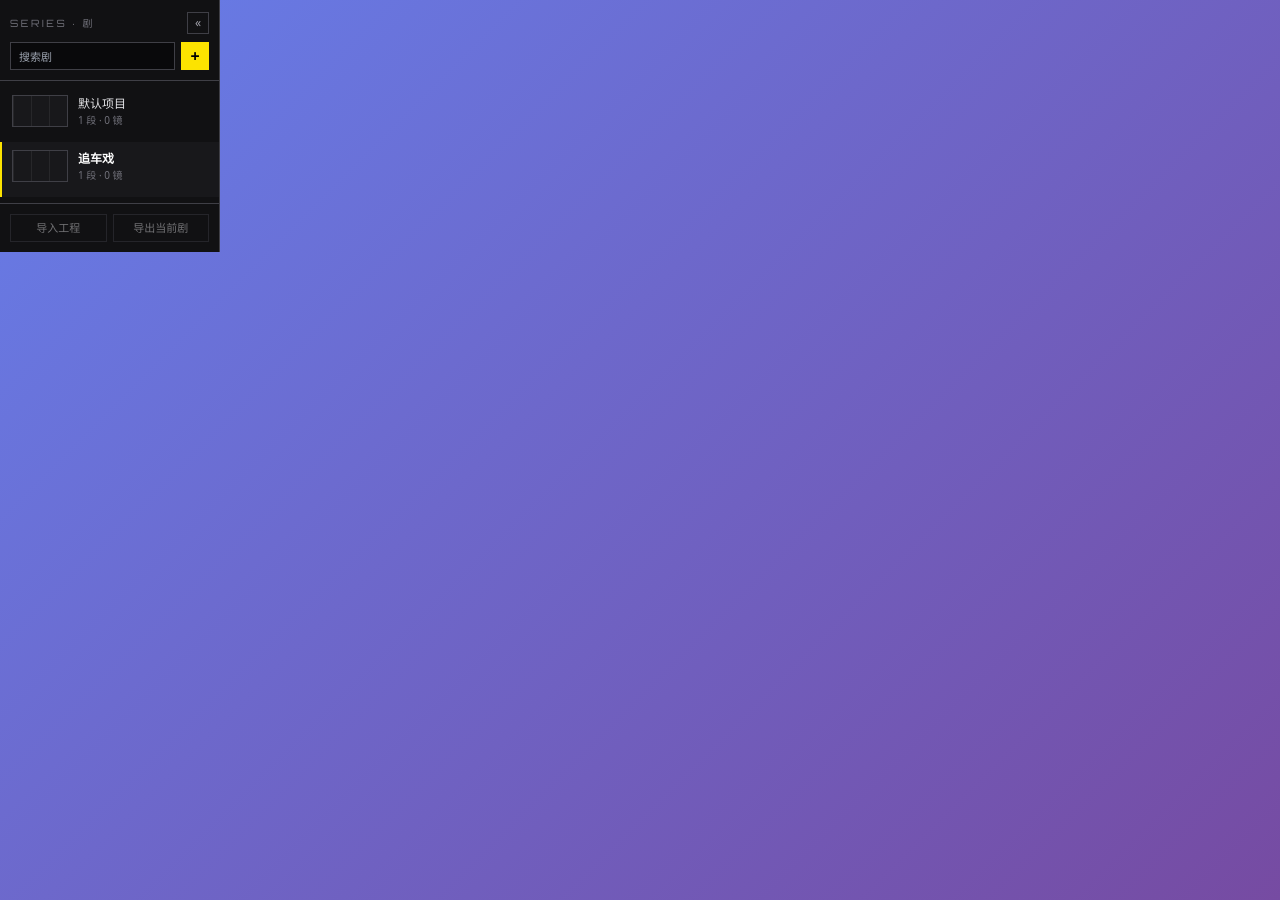
Test: ProjectRail 右键菜单 › 右键剧行:重命名 / 置顶 / Fork / 删除;删除带「移入回收站」说明
Right-click the button with aria-label "切换到剧 追车戏" at (110, 170), box x1=2 y1=142 x2=219 y2=197
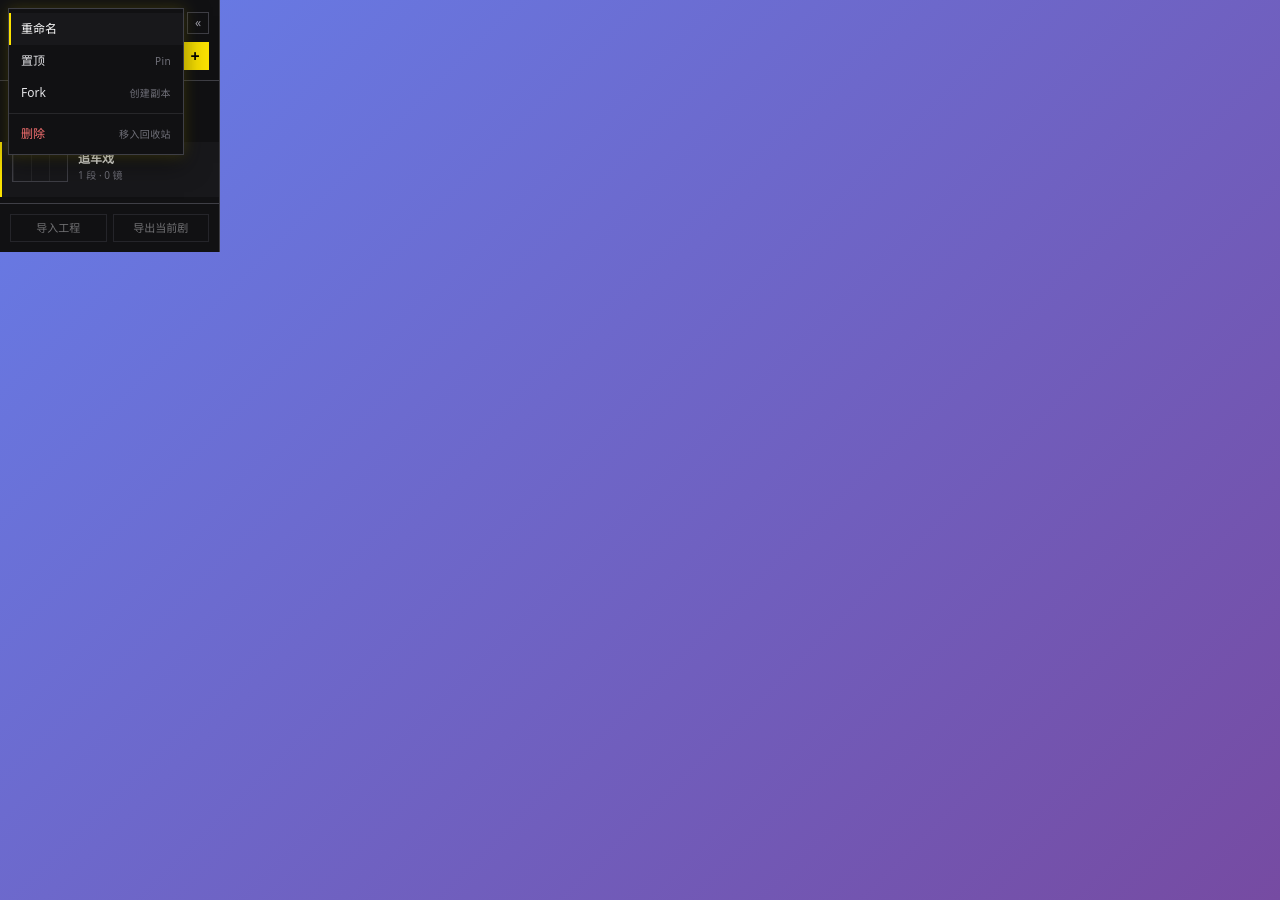
Now the menu item "删除 移入回收站" is shown, box x1=9 y1=118 x2=183 y2=150
